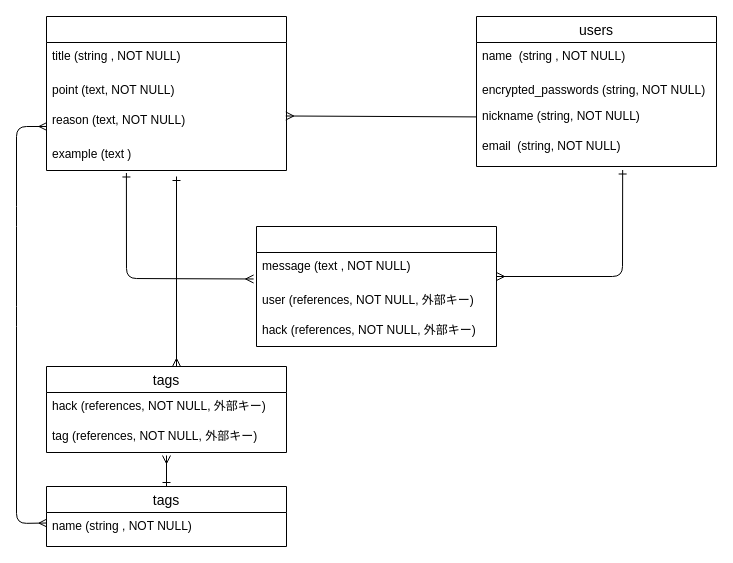
The diagram is 733 pixels wide and 563 high, and some of its shapes have lost their labels. Each missing label, with the box of its shape:
comments: (256, 226, 496, 346)
hacks: (46, 16, 286, 170)
